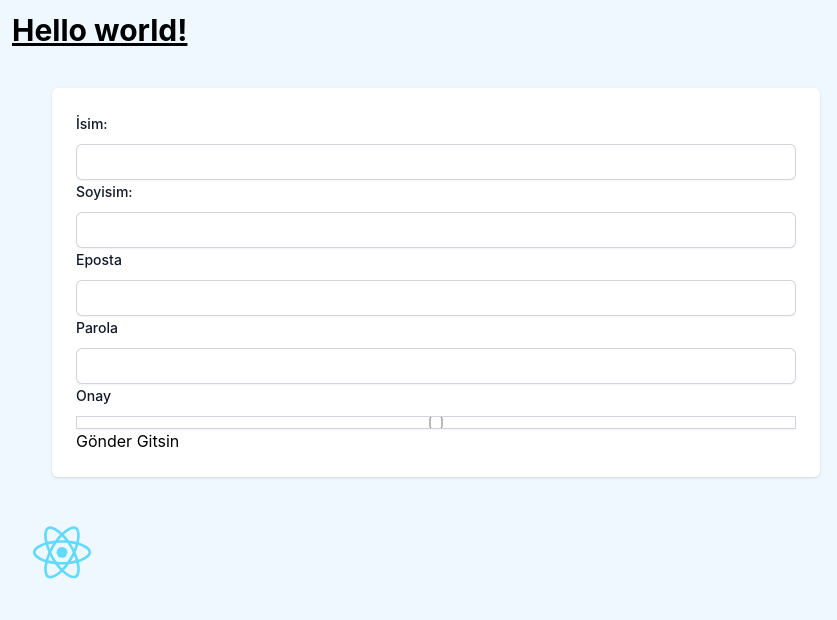
it: my first E2E test › Eposta boşken ve hatalı girdi olduğunda hata görünmeli
The image size is (837, 620).
Type "berk@berk.com" into the field with test id "femail".
click(436, 298); type("berk@berk.com")  # box x1=76 y1=280 x2=796 y2=316
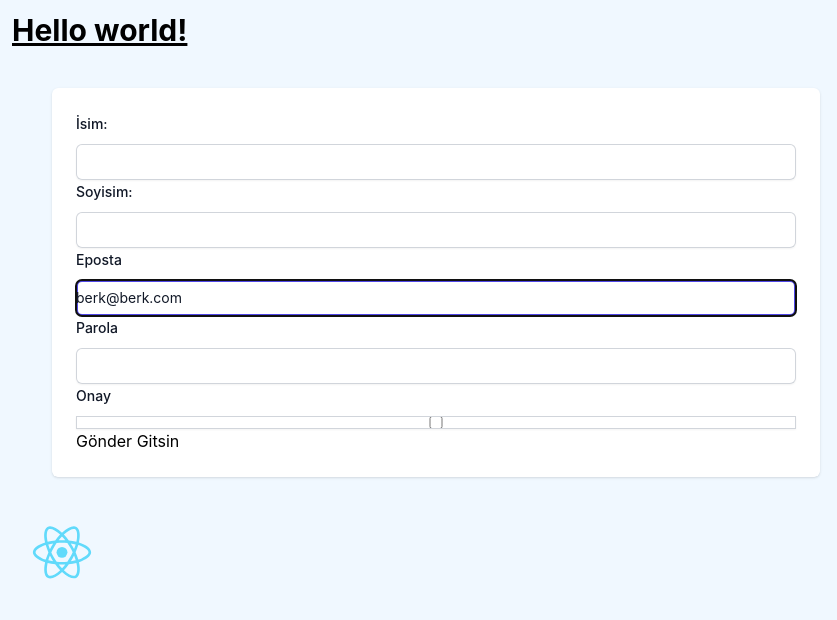
Clear the field with test id "femail" at (436, 298), box x1=76 y1=280 x2=796 y2=316
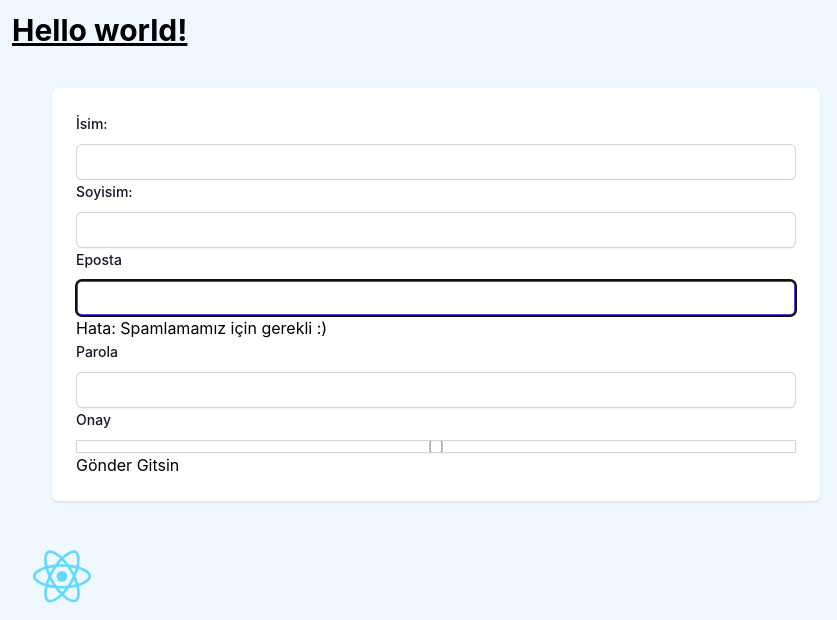
Now the number of elements with class "error" is 1, box x1=76 y1=318 x2=327 y2=338
Type "berkber" into the field with test id "femail".
click(436, 298); type("berkber")  # box x1=76 y1=280 x2=796 y2=316
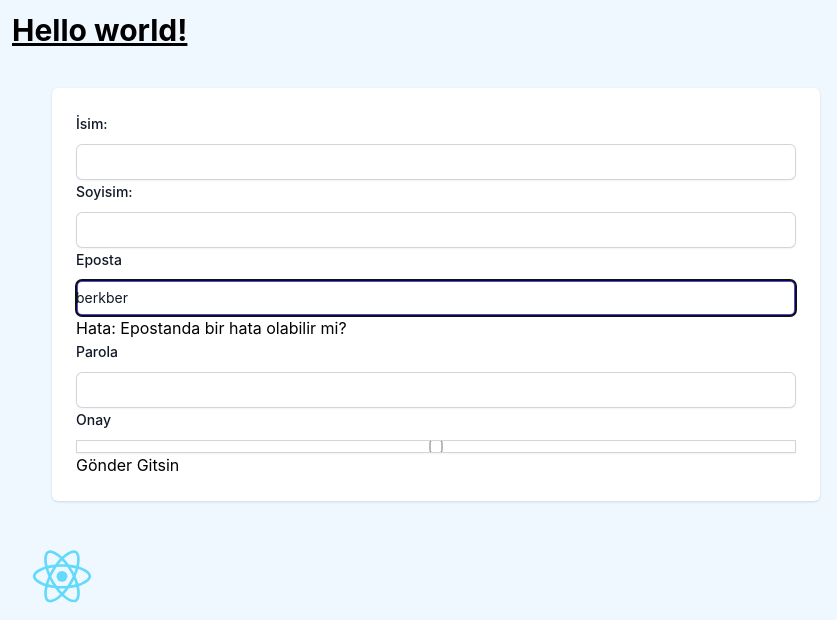
Now the number of elements with class "error" is 1, box x1=76 y1=318 x2=347 y2=338
Now the text with class "error" reads "Hata: Epostanda bir hata olabilir mi?", box x1=76 y1=318 x2=347 y2=338
